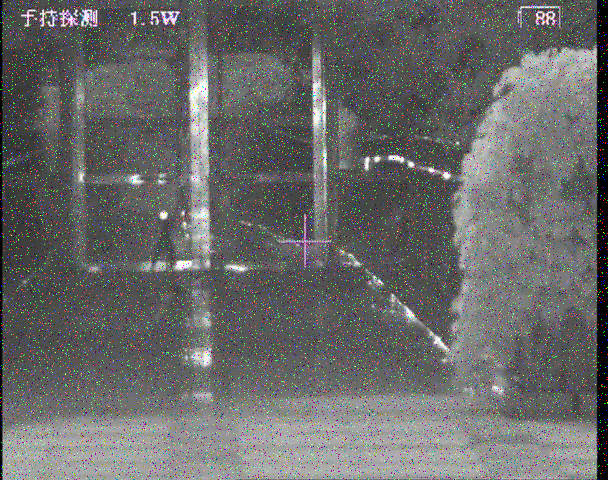my: (158, 210, 169, 221)
